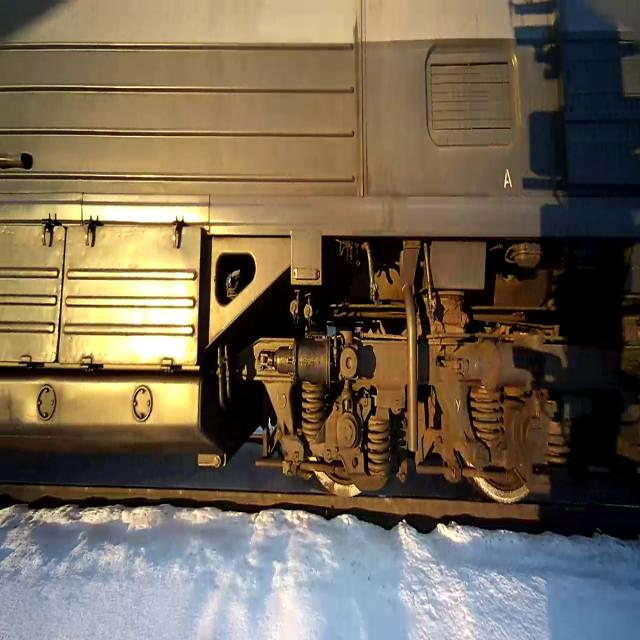locomotive: (0, 0, 640, 546)
